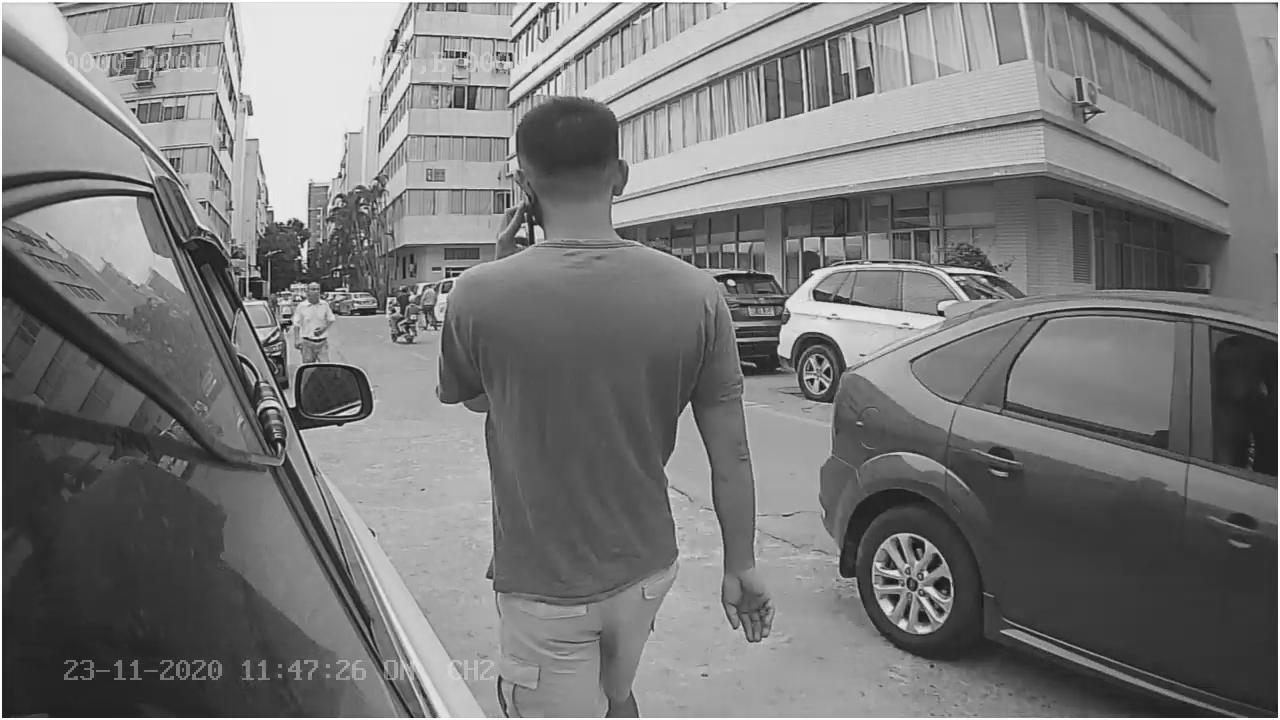person: (427, 91, 789, 570)
